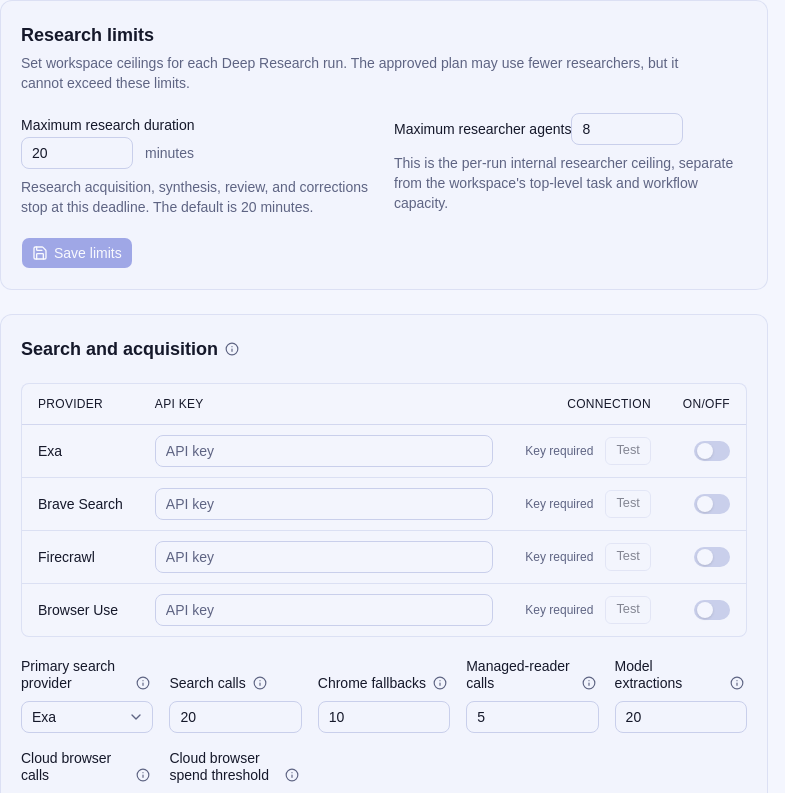
Scenario: tests a typed acquisition key by saving it before validating
Check: the button "Test" in the row of "Brave Search" is disabled, box [605,490,651,518]
In the password field named "Brave Search API key": (324, 504) [155,488,493,520], type "brave-key"
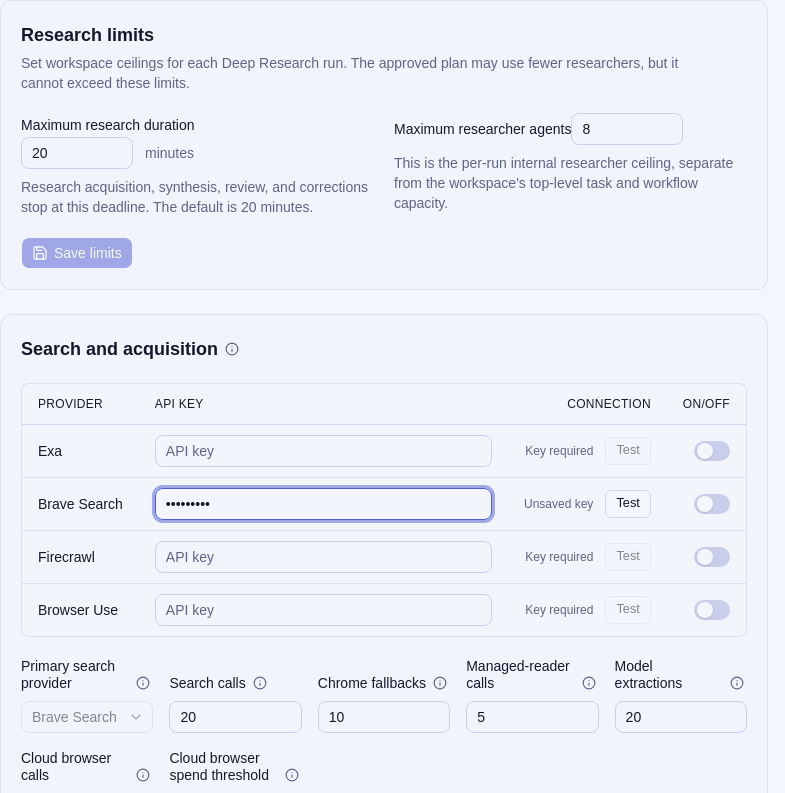
Check: the text "Unsaved key" is shown, box [524,496,593,512]
Check: the button "Test" next to "Unsaved key" is enabled
Click the button "Test" next to "Unsaved key": (628, 504) [605,490,651,518]
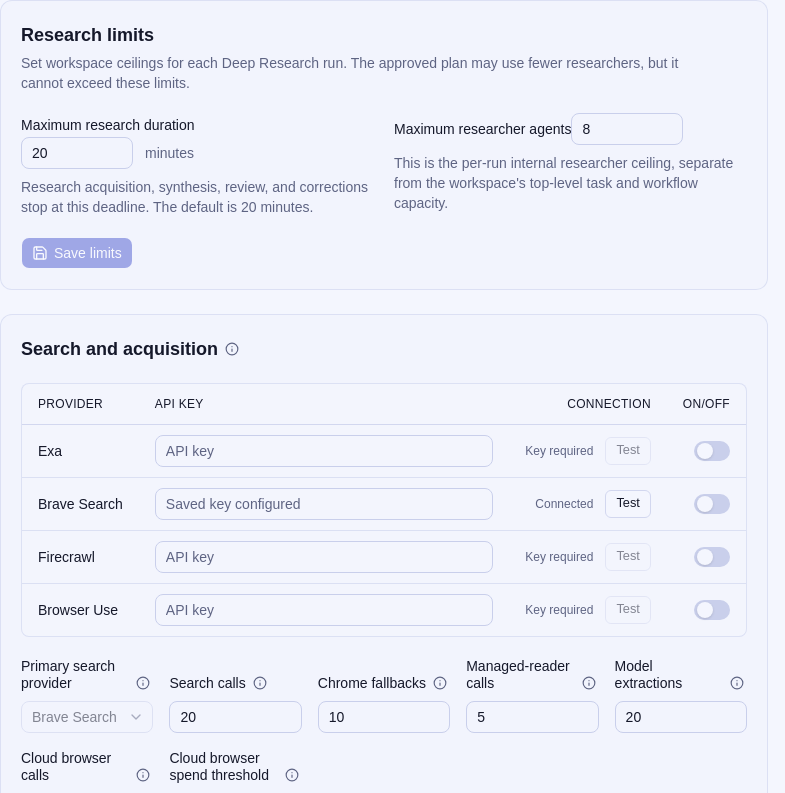
Check: the text "Connected" is shown, box [535,496,593,512]
Check: the password field named "Brave Search API key" is empty, box [155,488,493,520]
